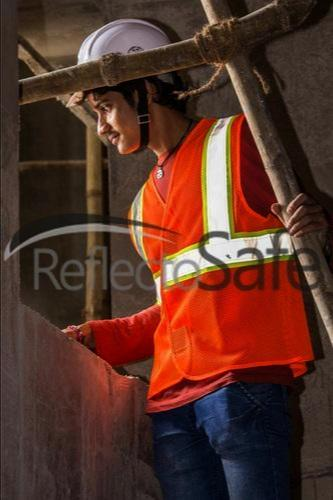person: (71, 11, 319, 500)
